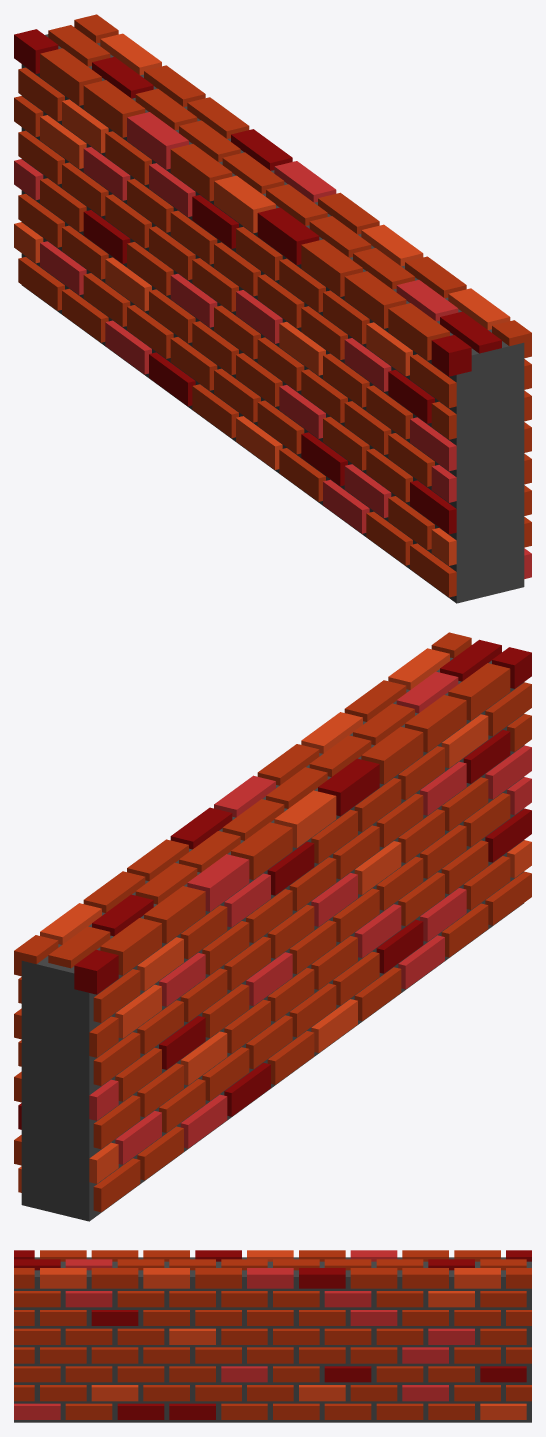
File: Fences-3-Brick Wall.obj
3 renders of one model, top to bottom at view 1: azimuth 30°, elevation 25°; view 2: azimuth 150°, elevation 25°; view 3: azimuth 270°, elevation 25°, orthographic. The views are drawn at different scales.
Visible parts, largest first — view 1: Brick Wall; view 2: Brick Wall; view 3: Brick Wall.
Boxes of the visible parts, left/top/right/bottom form: Brick Wall: left=14, top=14, right=531, bottom=603; Brick Wall: left=14, top=632, right=531, bottom=1221; Brick Wall: left=14, top=1250, right=531, bottom=1422.
Size of the model in its own units: 1.1 by 3.2 by 10.
1 material, 1 textured.
